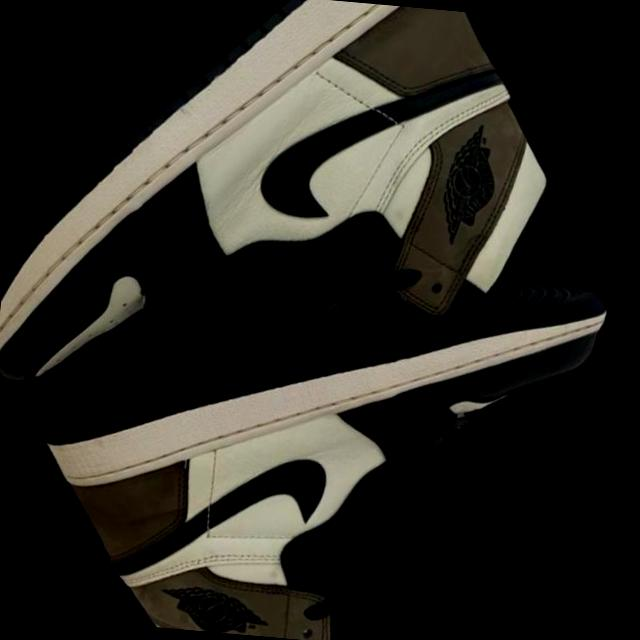nike_original_jordan: (0, 0, 640, 627), (1, 62, 640, 640)
